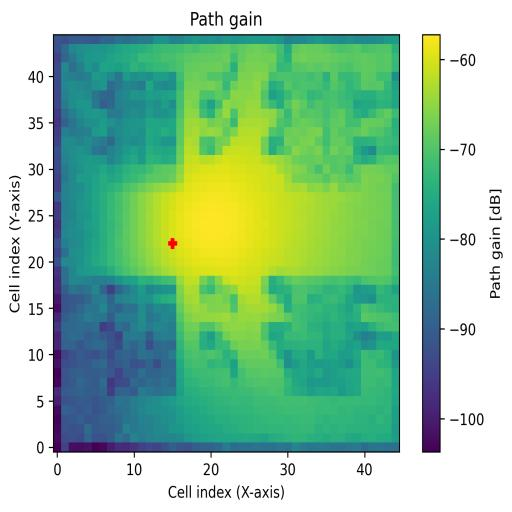Concrete: (284, 63, 360, 185)
Glass: (108, 71, 184, 181)
Metal: (293, 276, 361, 396)
Wood: (108, 278, 175, 400)
